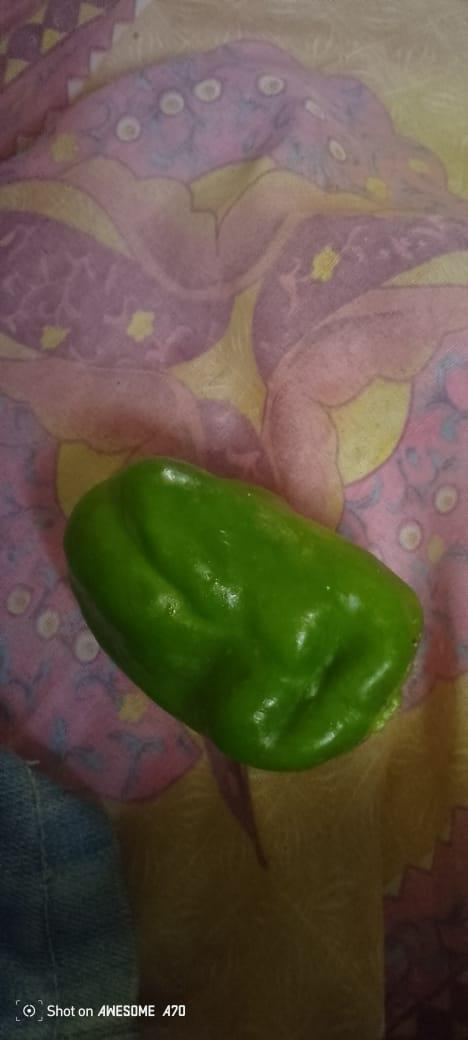non-mango: (64, 460, 420, 772)
